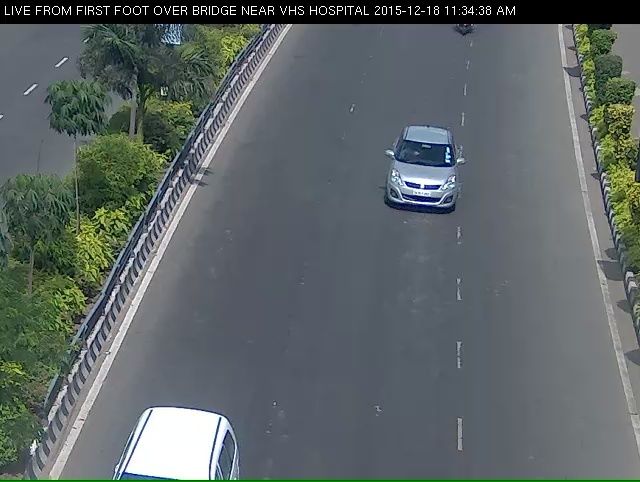Car: (370, 141, 482, 238)
